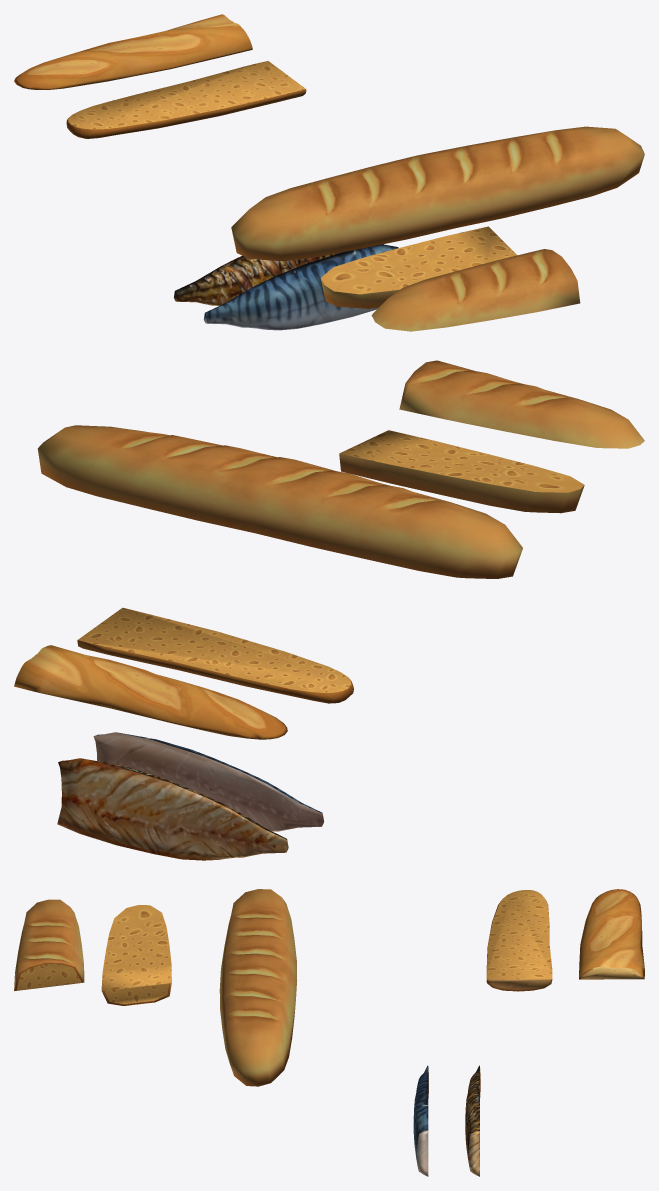
File: BALIK MODELLERİ .fbx
3 views of the same model, one above another, from view 1: azimuth 30°, elevation 25°; view 2: azimuth 150°, elevation 25°; view 3: azimuth 270°, elevation 25° (orthographic). The views are drawn at different scales.
Visible parts, largest first — view 1: baguette_Bread_pack1_0, baguette_Bread_pack1_0.002, SM_BaguetteA001_Baguette_0, SM_BaguetteA001_Baguette_0.001, baguette_Bread_pack1_0.001, kesik_balık, kesik_balık.001; view 2: baguette_Bread_pack1_0, kesik_balık.001, SM_BaguetteA001_Baguette_0, baguette_Bread_pack1_0.002, SM_BaguetteA001_Baguette_0.001, baguette_Bread_pack1_0.001, kesik_balık; view 3: baguette_Bread_pack1_0, baguette_Bread_pack1_0.001, SM_BaguetteA001_Baguette_0, baguette_Bread_pack1_0.002, SM_BaguetteA001_Baguette_0.001, kesik_balık, kesik_balık.001.
Part boxes in pixels (x1,y1,x2,y2): baguette_Bread_pack1_0: (231,126,644,261); baguette_Bread_pack1_0.002: (371,249,580,331); SM_BaguetteA001_Baguette_0: (66,61,306,138); SM_BaguetteA001_Baguette_0.001: (14,14,252,89); baguette_Bread_pack1_0.001: (320,226,516,308); kesik_balık: (203,244,398,330); kesik_balık.001: (174,252,341,305); baguette_Bread_pack1_0: (37,425,522,578); kesik_balık.001: (57,758,288,860); SM_BaguetteA001_Baguette_0: (77,607,353,703); baguette_Bread_pack1_0.002: (399,360,644,448); SM_BaguetteA001_Baguette_0.001: (14,645,287,739); baguette_Bread_pack1_0.001: (339,430,584,513); kesik_balık: (93,732,323,831); baguette_Bread_pack1_0: (219,889,297,1086); baguette_Bread_pack1_0.001: (101,905,171,1005); SM_BaguetteA001_Baguette_0: (486,890,552,991); baguette_Bread_pack1_0.002: (14,899,84,991); SM_BaguetteA001_Baguette_0.001: (579,889,644,979); kesik_balık: (413,1065,428,1176); kesik_balık.001: (465,1065,480,1176).
Bounding box in the file's own units: 134 × 71.22 × 205.
